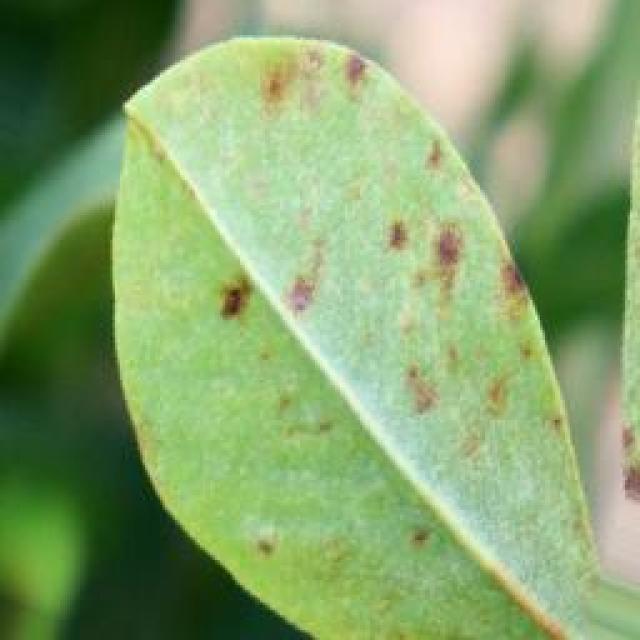Whitefly: (98, 0, 616, 634)
